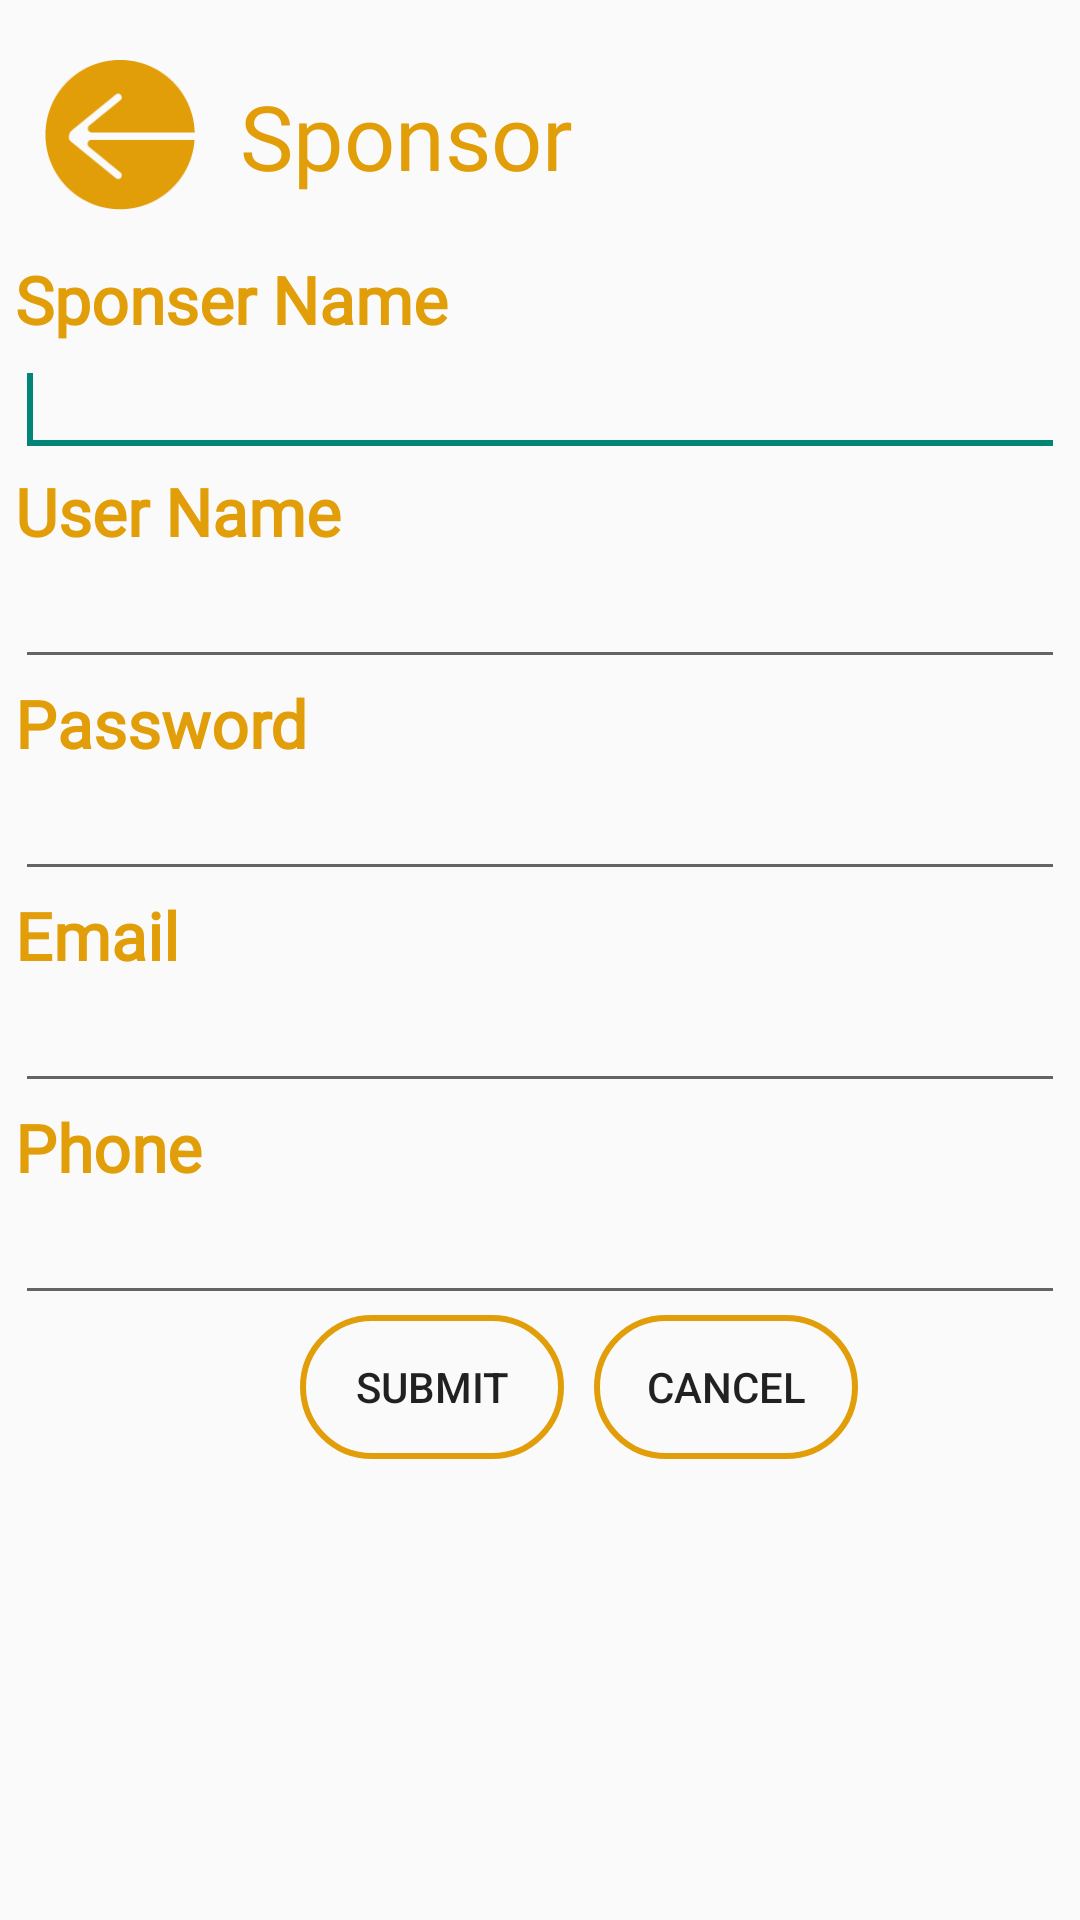

Point at icon controls on the screen. Image size 1080px x 1920px, points as (x=x, y=y).
back: (x=120, y=135)
